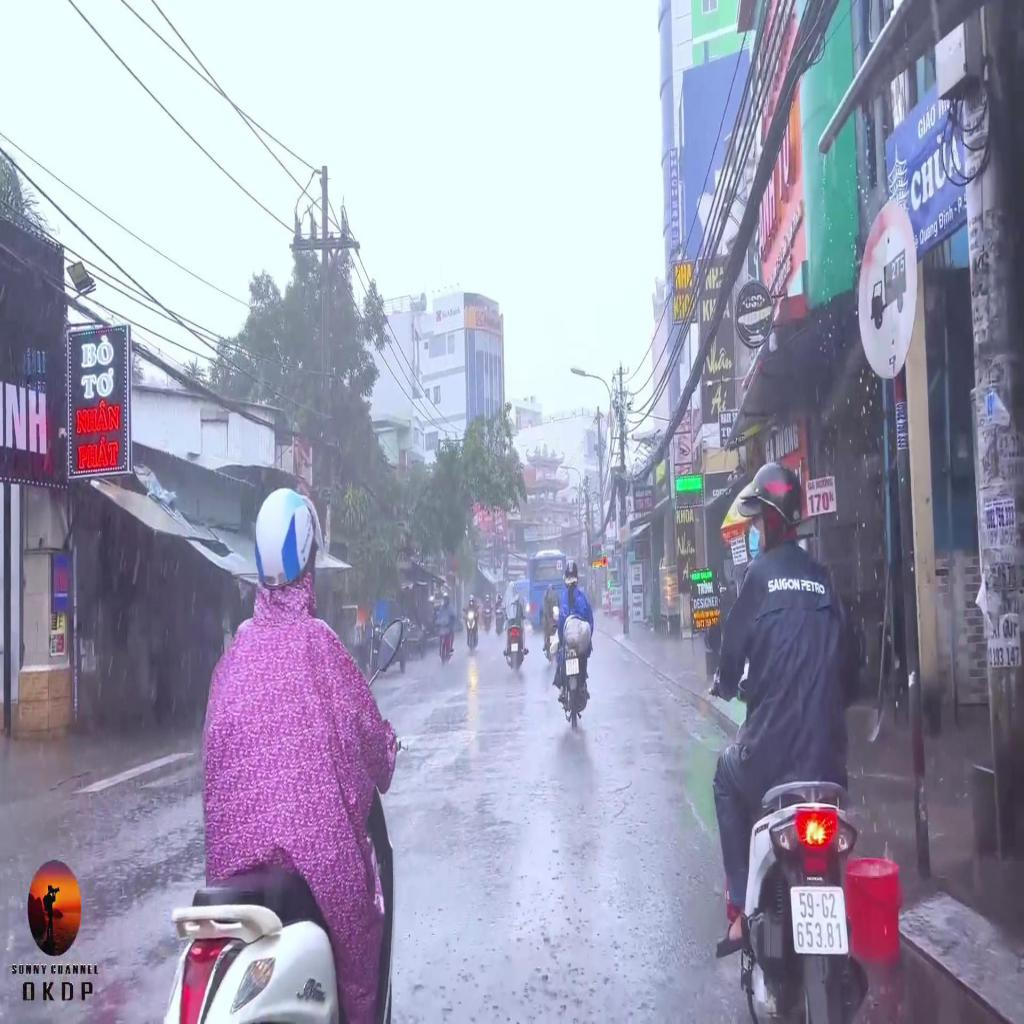cam_o_to_tai_trong_luong_qua_2-5t: (857, 205, 918, 379)
